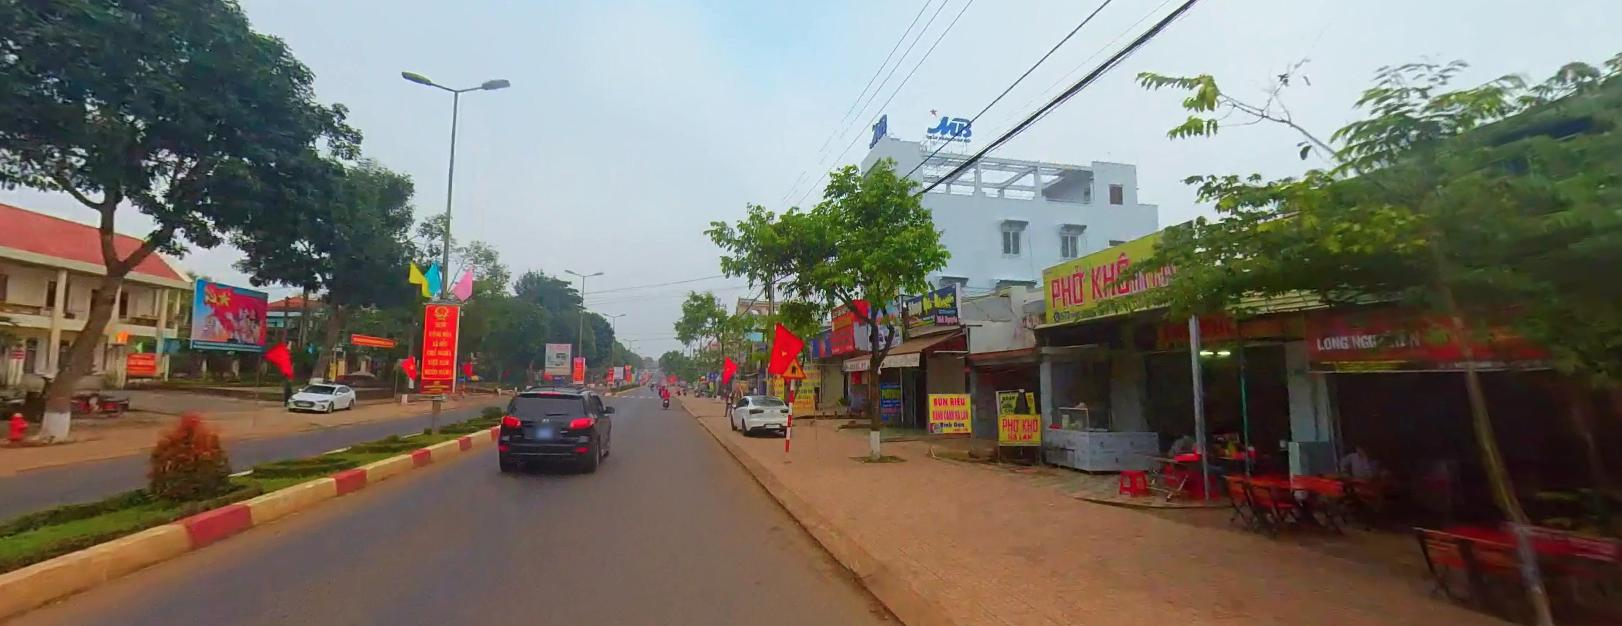Cam nguoc chieu: (607, 368, 612, 372)
Nguy hiem: (782, 354, 806, 377)
